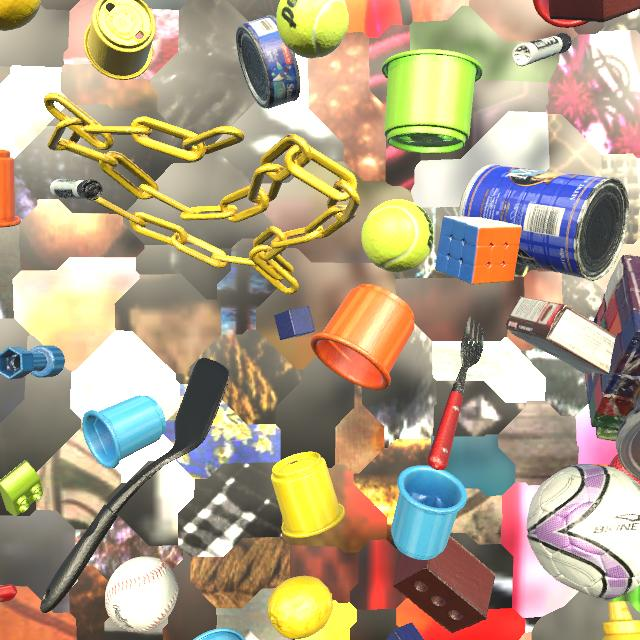ycb_002_master_chef_can: (458, 164, 629, 281)
ycb_006_mustard_bottle: (602, 601, 640, 640)
ycb_007_tuna_fish_can: (236, 15, 300, 109)
ycb_008_pudding_box: (505, 296, 616, 374)
ycb_012_strawberry: (609, 454, 640, 484)
ycb_014_lemon: (267, 576, 333, 639), (0, 0, 41, 31)
